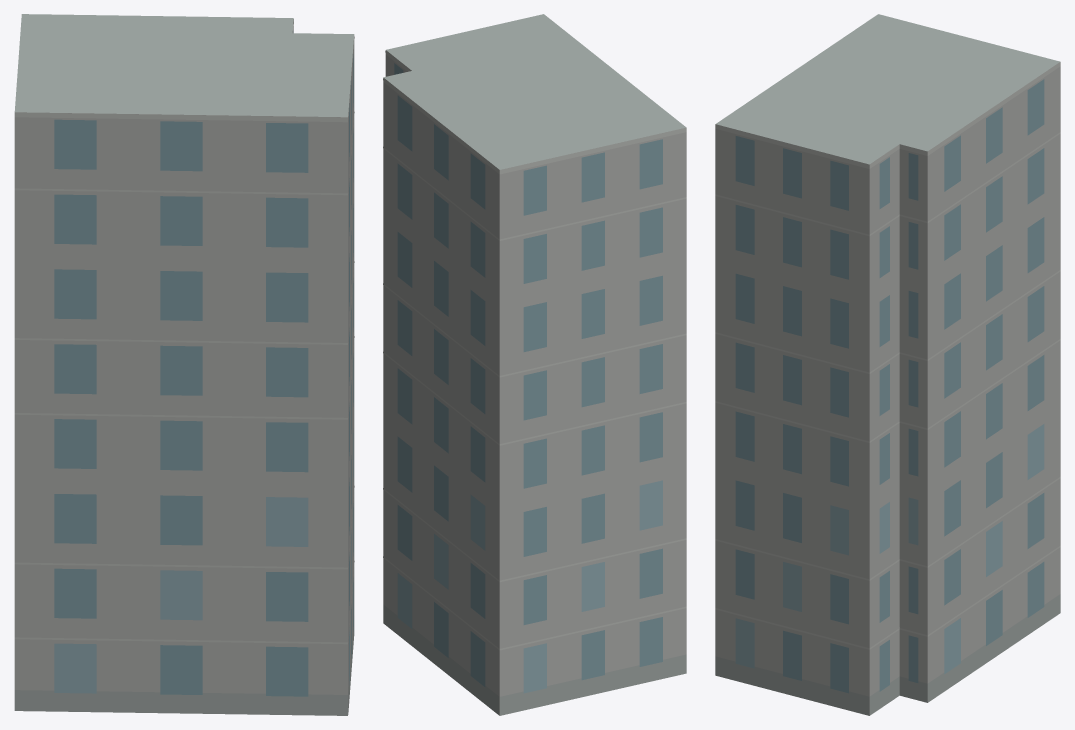
The model's file is survey-upis-32976086.glb.
3 views of the same model, side by side, from view 1: azimuth 30°, elevation 25°; view 2: azimuth 150°, elevation 25°; view 3: azimuth 270°, elevation 25° (orthographic). The views are drawn at different scales.
Parts seen in each view (by area): view 1: survey-upis-32976086.tmp; view 2: survey-upis-32976086.tmp; view 3: survey-upis-32976086.tmp.
Boxes of the visible parts, x1,y1,x2,y2 form: survey-upis-32976086.tmp: (14, 14, 354, 715); survey-upis-32976086.tmp: (383, 14, 686, 715); survey-upis-32976086.tmp: (715, 14, 1060, 715).
Size of the model in its own units: 17.14 by 29.25 by 16.62.
